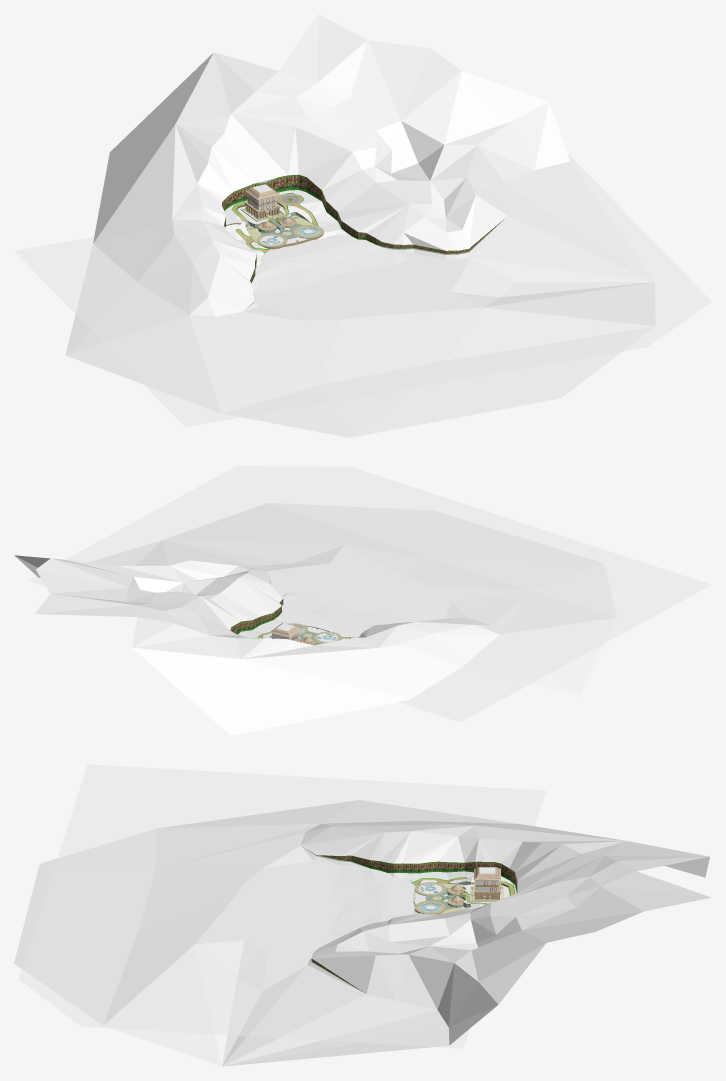
The model's file is sirena0_LowPoly_02_v3.obj.
3 views of the same model, one above another, from view 1: azimuth 30°, elevation 25°; view 2: azimuth 150°, elevation 25°; view 3: azimuth 270°, elevation 25° (orthographic). The views are drawn at different scales.
Visible parts, largest first — view 1: Mesh_test; view 2: Mesh_test; view 3: Mesh_test.
Part boxes in pixels (x1=…): Mesh_test: x1=14, y1=14, x2=711, y2=437; Mesh_test: x1=14, y1=466, x2=711, y2=735; Mesh_test: x1=14, y1=764, x2=711, y2=1066.
Size of the model in its own units: 174 by 34.33 by 181.
